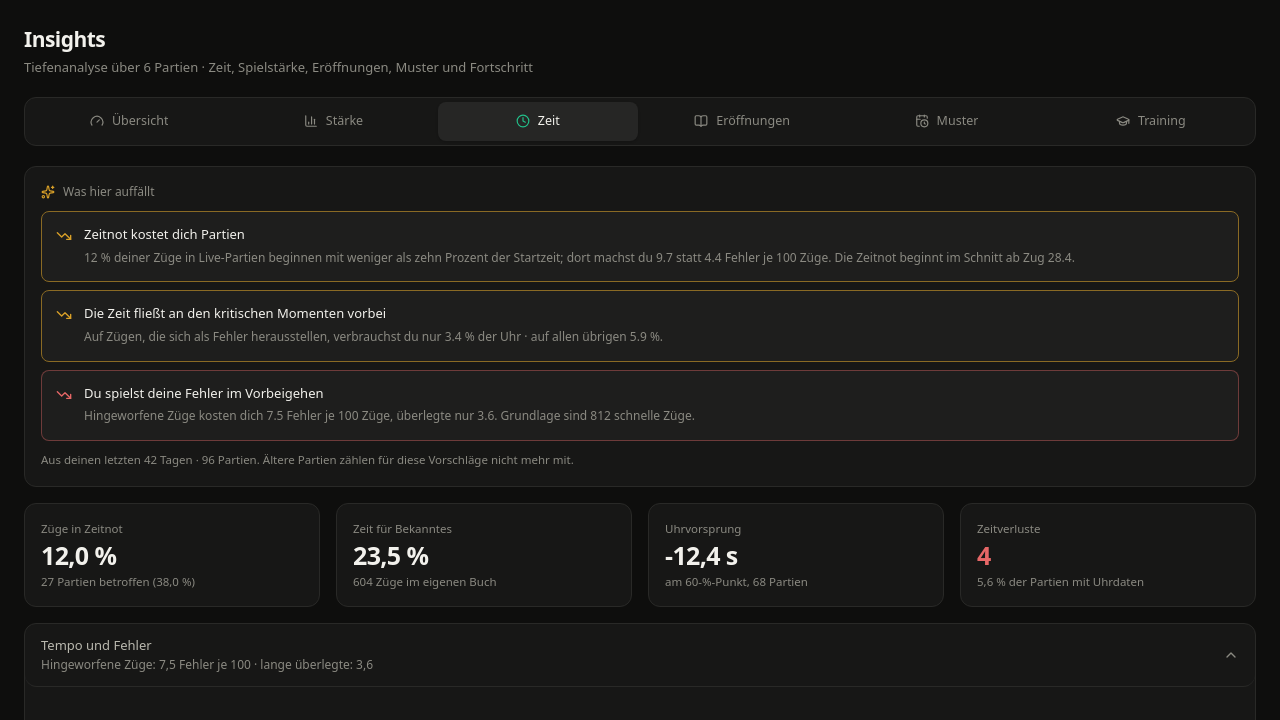
deep Insights › compares the player against their own opponent field
The width and height of the screenshot is (1280, 720).
Check: the text "Tiefenanalyse über 6 Partien" is shown, box [24,58,533,76]
Click the button "Stärke".
click(333, 121)  # box [233,102,434,141]
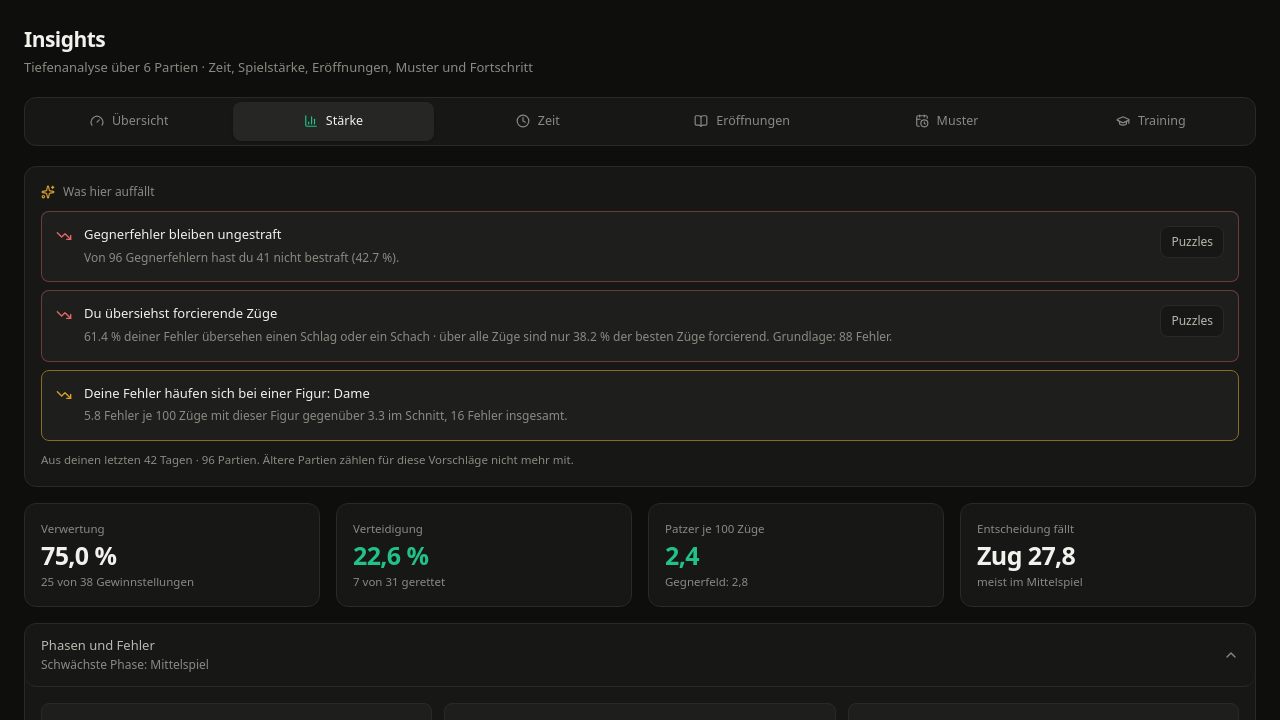
Check: the text "Gegnerfeld: 2,8" is shown, box [665,574,748,589]
